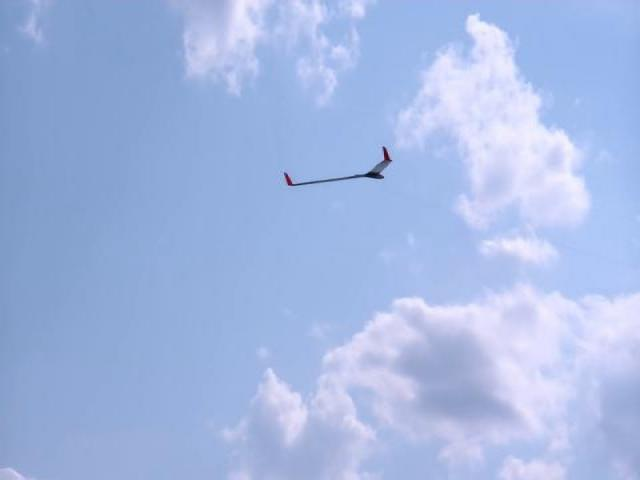flying wing: (282, 142, 393, 188)
